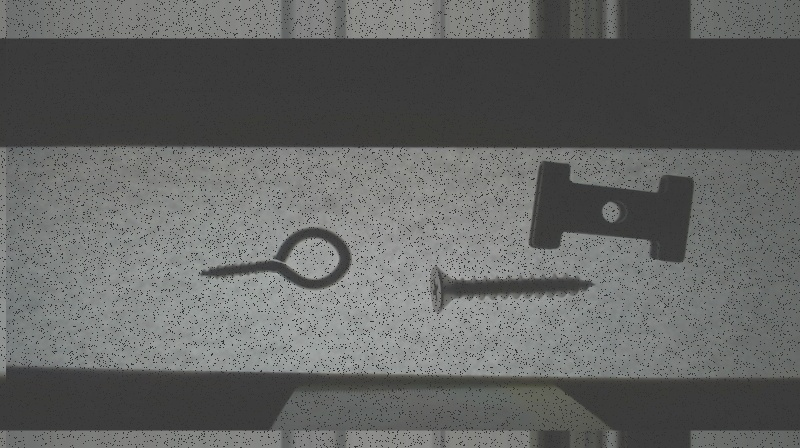O001: (196, 224, 357, 291)
O002: (522, 158, 698, 266)
S001: (428, 263, 597, 316)
